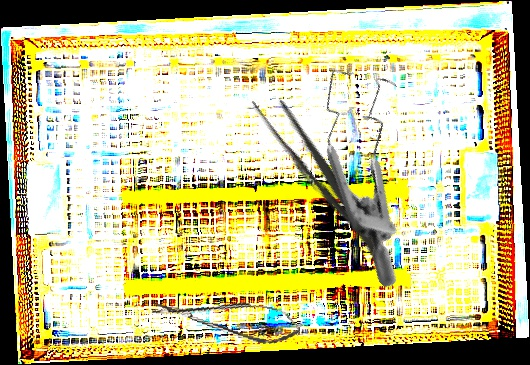Dressing Forceps: (246, 85, 396, 269)
Micro Scissor: (149, 285, 304, 350)
Speculum: (256, 45, 493, 290)
